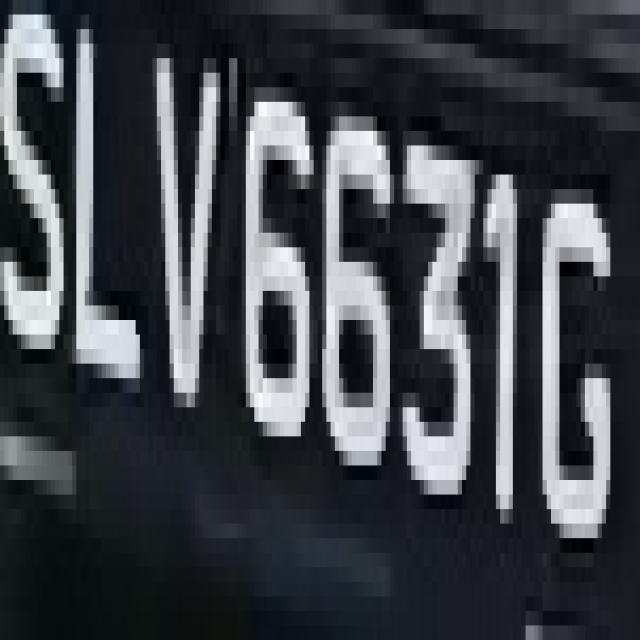1: (479, 131, 521, 611)
3: (398, 102, 475, 567)
6: (233, 87, 322, 495), (326, 58, 398, 538)
G: (534, 87, 619, 582)
L: (72, 29, 140, 451)
S: (4, 15, 64, 392)
V: (148, 14, 233, 437)
